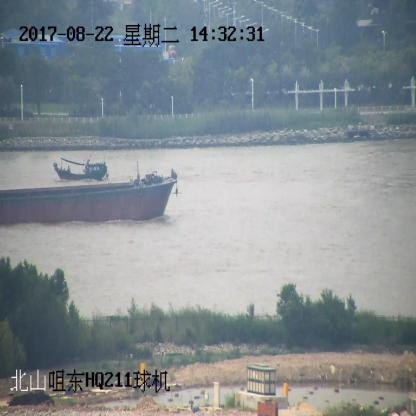Bulk Carrier: (0, 170, 179, 225)
